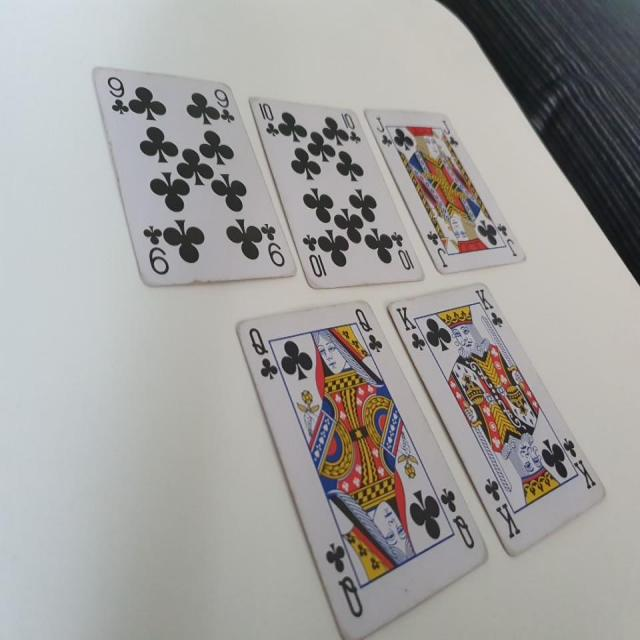10 Trefoils: (248, 93, 428, 290)
9 Trefoils: (88, 64, 300, 287)
J Trefoils: (362, 106, 526, 276)
K Trefoils: (385, 282, 607, 558)
Q Trefoils: (234, 298, 489, 639)
